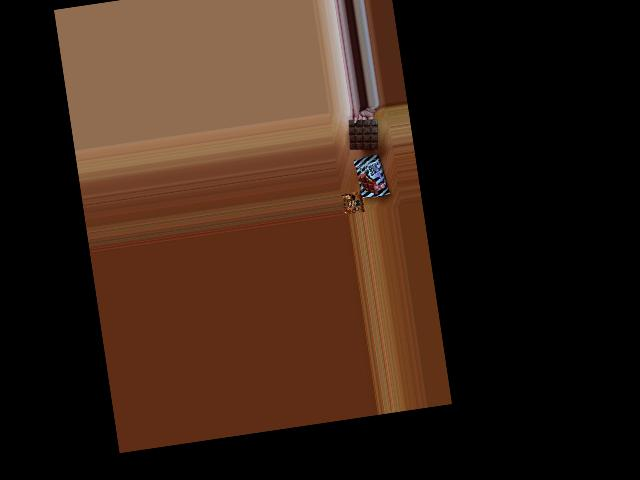chocolate: (354, 151, 389, 201)
